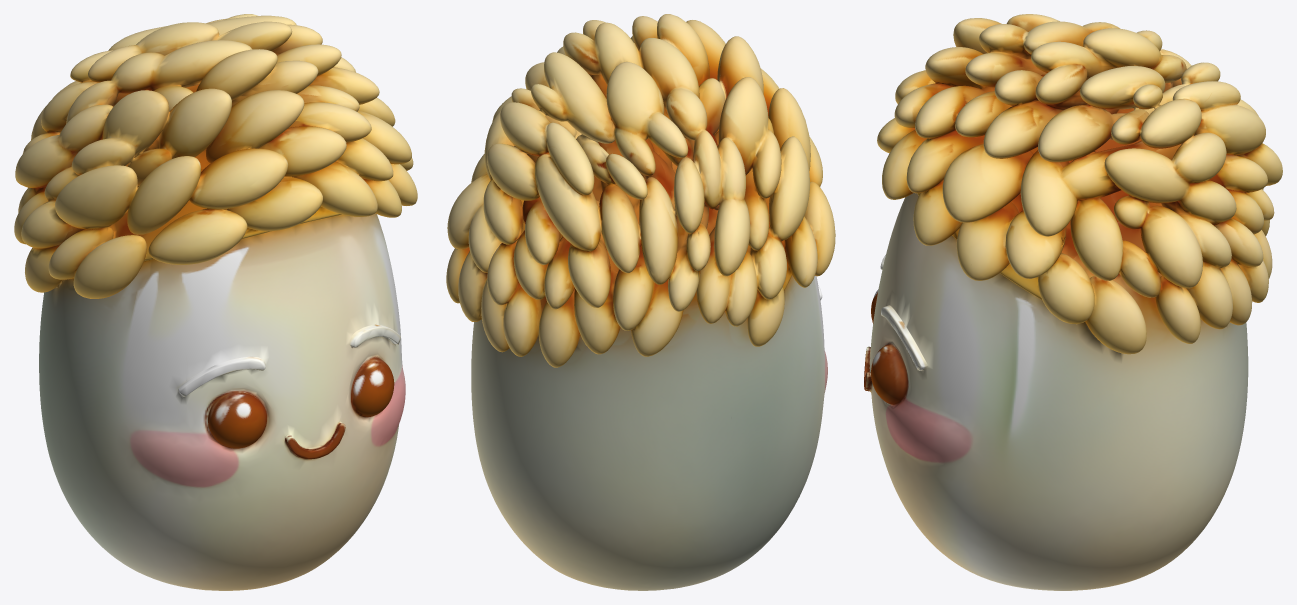
The model's file is award-18.glb.
3 views of the same model, side by side, from view 1: azimuth 30°, elevation 25°; view 2: azimuth 150°, elevation 25°; view 3: azimuth 270°, elevation 25° (orthographic). The views are drawn at different scales.
Visible parts, largest first — view 1: node_0; view 2: node_0; view 3: node_0.
Part boxes in pixels (x1,y1,x2,y2): node_0: (14,14,417,590); node_0: (446,14,835,590); node_0: (864,14,1282,590).
Bounding box in the file's own units: 0.7729 × 1.11 × 0.8035.
Materials: 1 (1 with a texture image).
